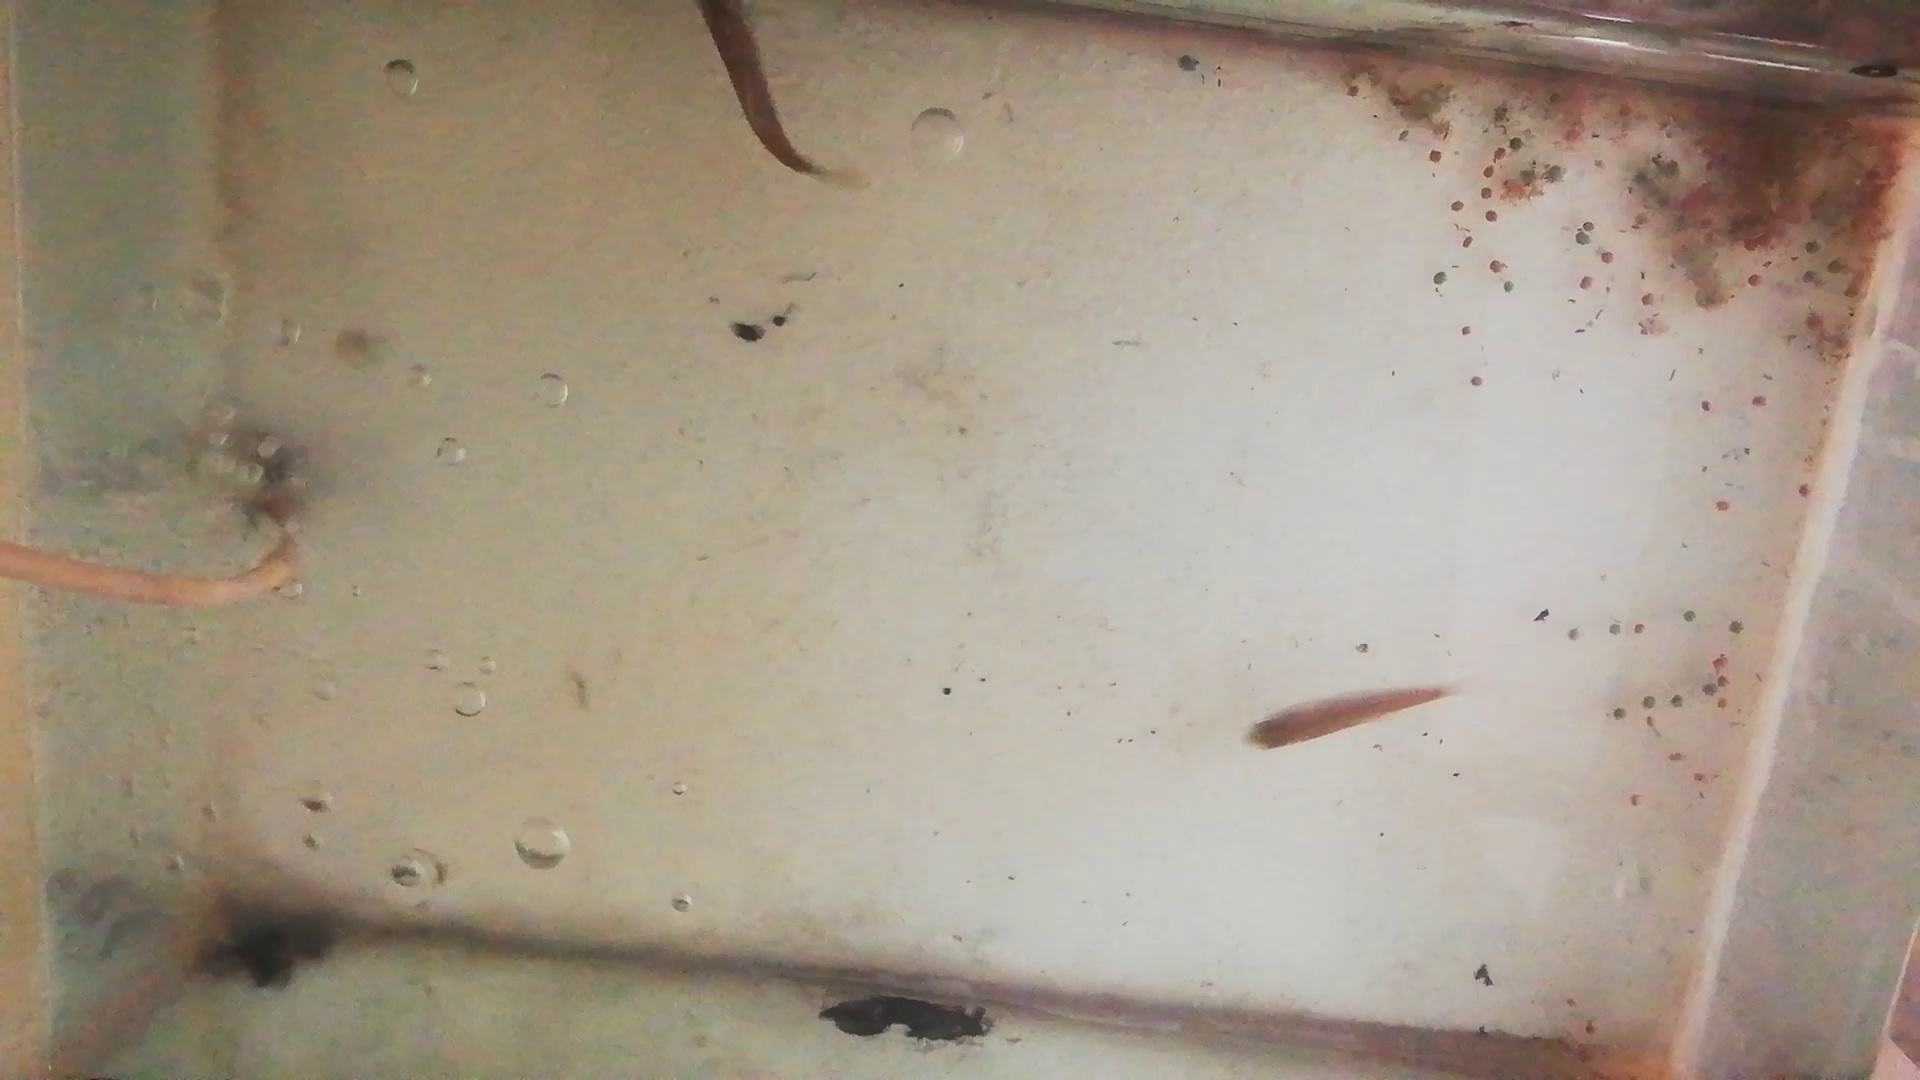fish: (694, 3, 816, 179), (1244, 684, 1445, 752)
